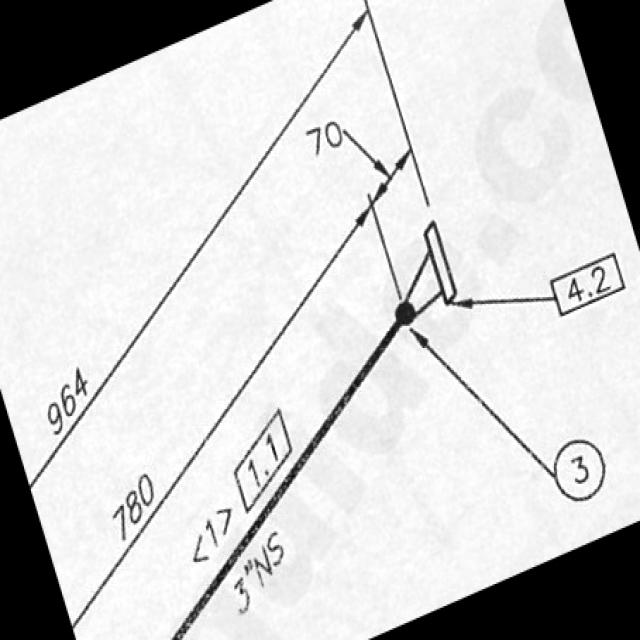Item number: (232, 401, 293, 530), (548, 247, 628, 322)
Measrement: (61, 137, 378, 625), (302, 110, 414, 204), (229, 522, 295, 627)
Pipeline: (177, 303, 424, 634)
Symbol: (391, 213, 457, 331)
Weld number: (552, 433, 610, 508)
